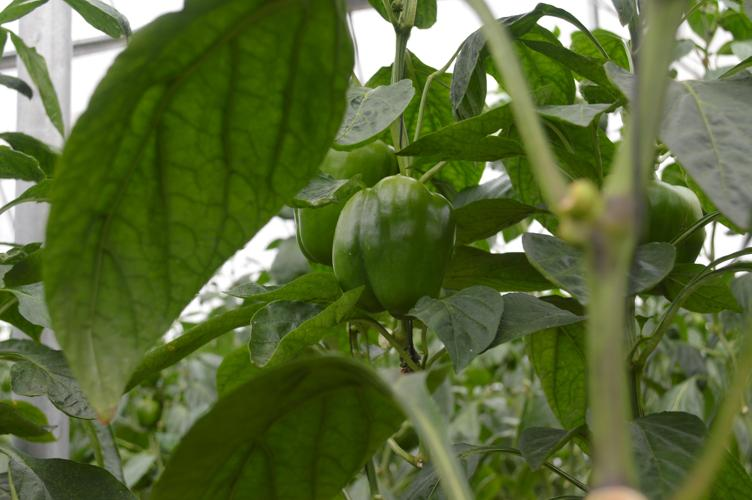BellPepper: (330, 180, 459, 330), (281, 118, 400, 258), (632, 163, 709, 283)
